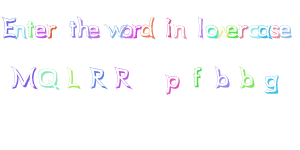E: (1, 15, 17, 41)
L: (64, 65, 82, 89)
M: (10, 64, 38, 90)
Q: (38, 67, 61, 91)
R: (112, 65, 133, 91), (88, 64, 108, 91)
a: (257, 24, 273, 40)
b: (213, 64, 231, 91), (238, 63, 255, 90)
c: (248, 24, 260, 39)
d: (139, 15, 157, 40)
e: (34, 22, 47, 42), (88, 22, 101, 41), (279, 23, 293, 40), (226, 24, 238, 39)
f: (190, 64, 204, 89)
g: (262, 73, 280, 96)
h: (77, 15, 91, 40)
i: (164, 17, 174, 40)
l: (194, 14, 206, 39)
n: (173, 23, 187, 39), (14, 23, 27, 39)
o: (205, 23, 219, 40), (120, 23, 134, 39)
p: (164, 74, 181, 97)
r: (46, 20, 57, 40), (237, 24, 249, 39), (131, 23, 142, 39)
s: (269, 23, 281, 41)
t: (67, 17, 77, 40), (26, 19, 36, 39)
w: (104, 22, 124, 39), (214, 24, 231, 39)
